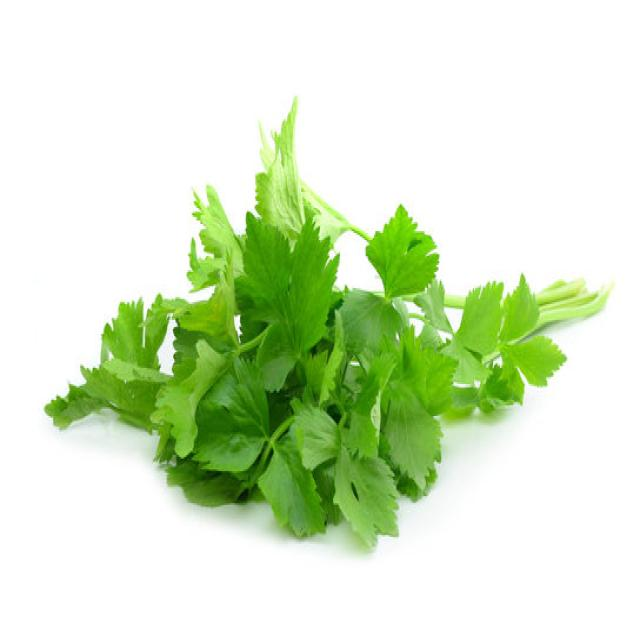Coriander Leaves: (51, 105, 620, 562)
